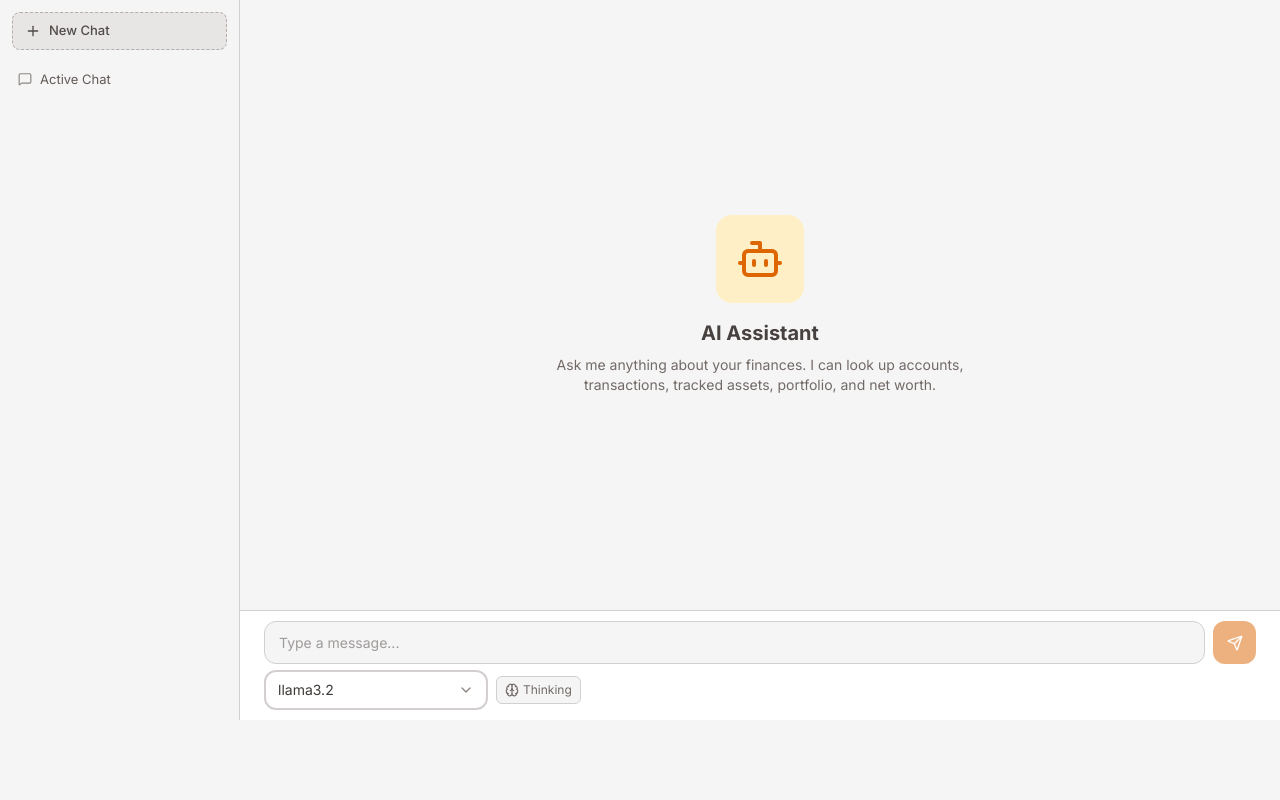
Scenario: ChatView coverage › shows assistant error message when llm_chat fails
Step 1. Click the text "Active Chat" → (75, 78), box [40,70,111,86]
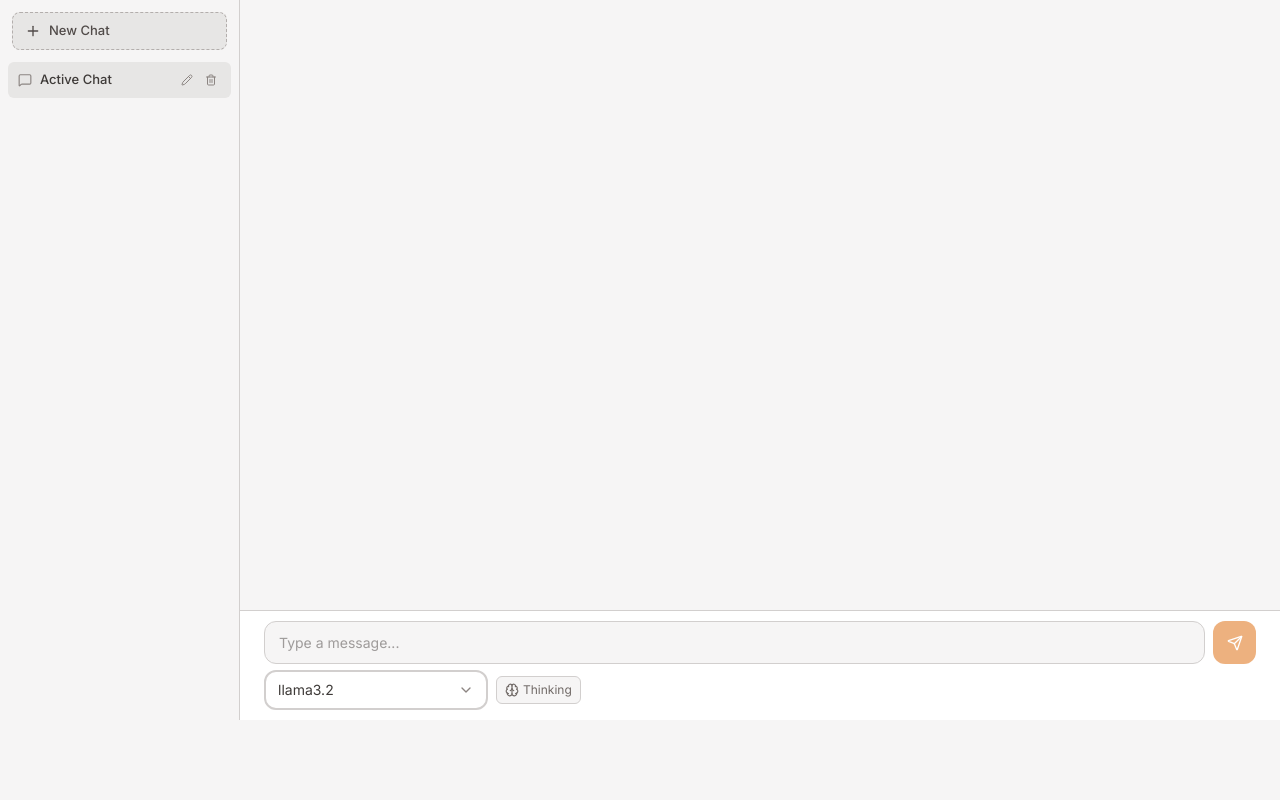
Step 2. Type "fail me" into the text box → (734, 642), box [264,621,1205,664]
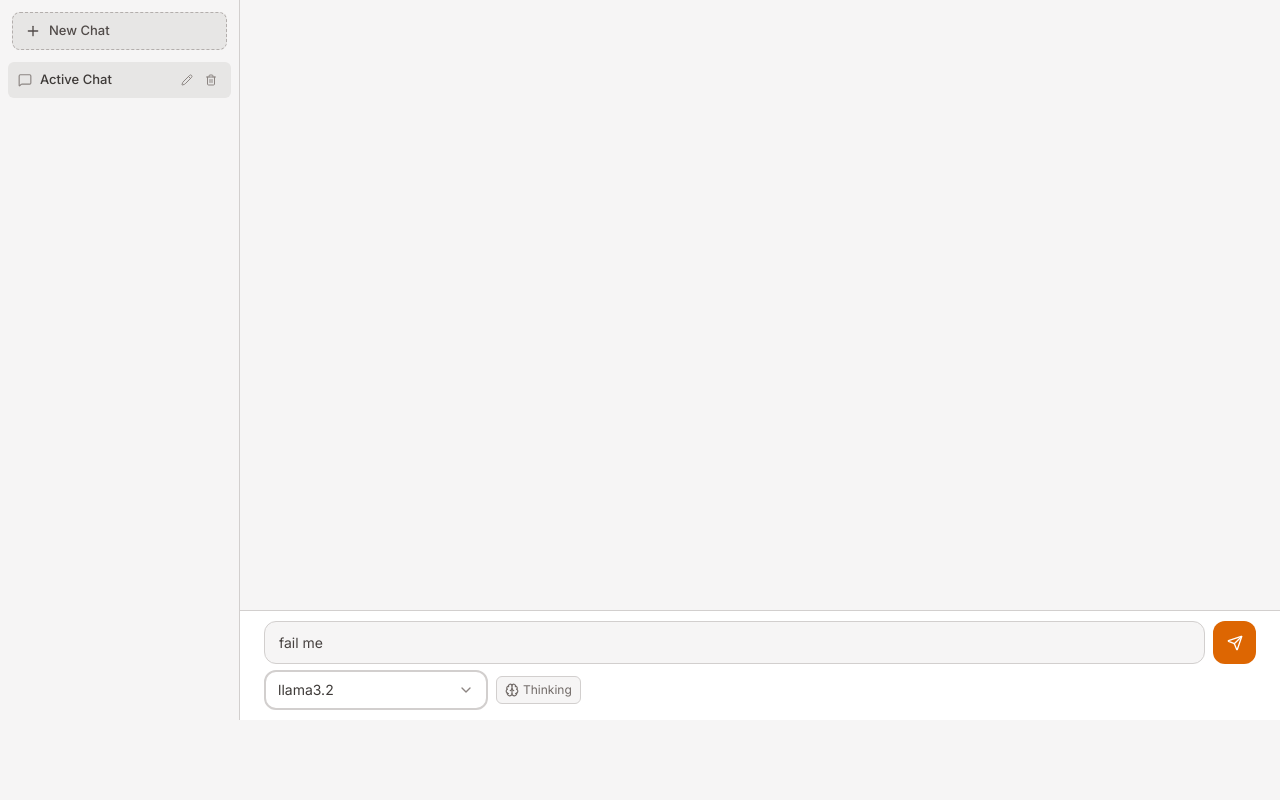
Step 3. Press Enter in the text box, box [264,621,1205,664]
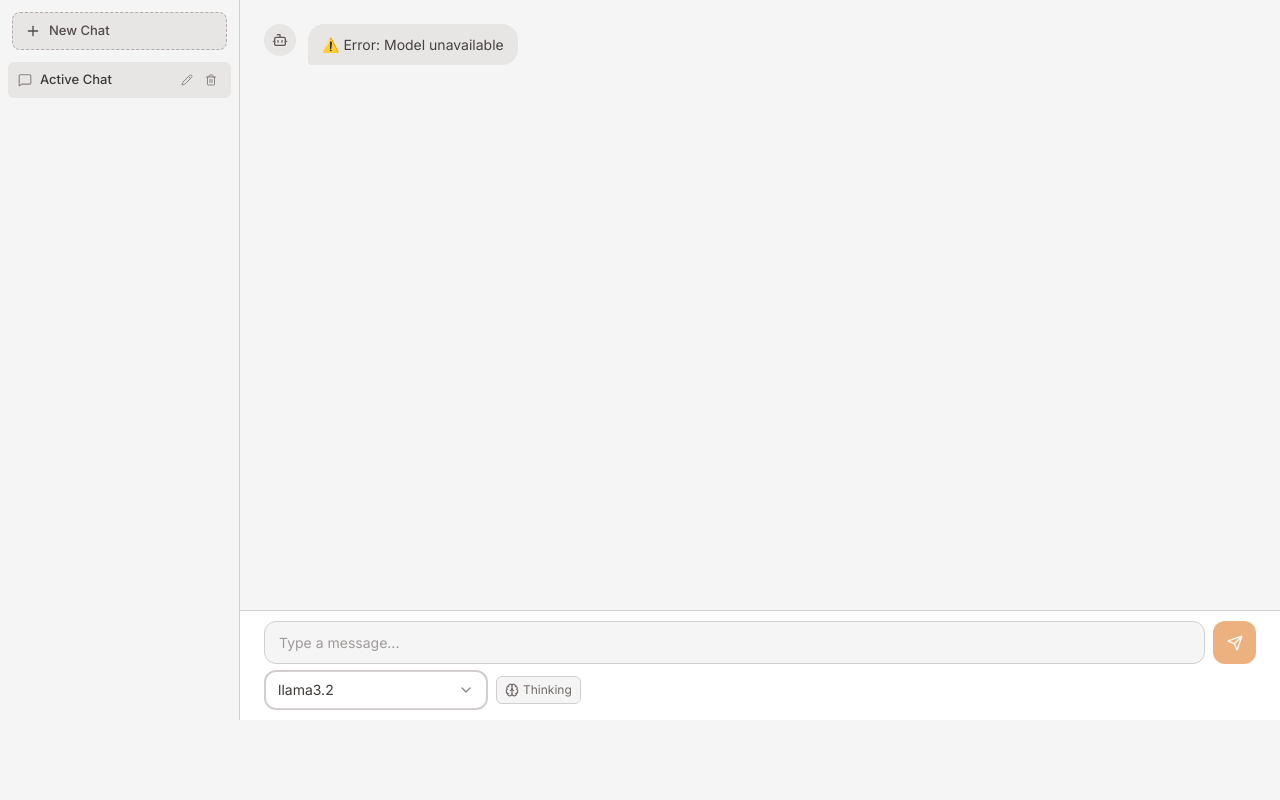
Result: the text "⚠️ Error: Model unavailable" is shown at [322,34,504,55]
